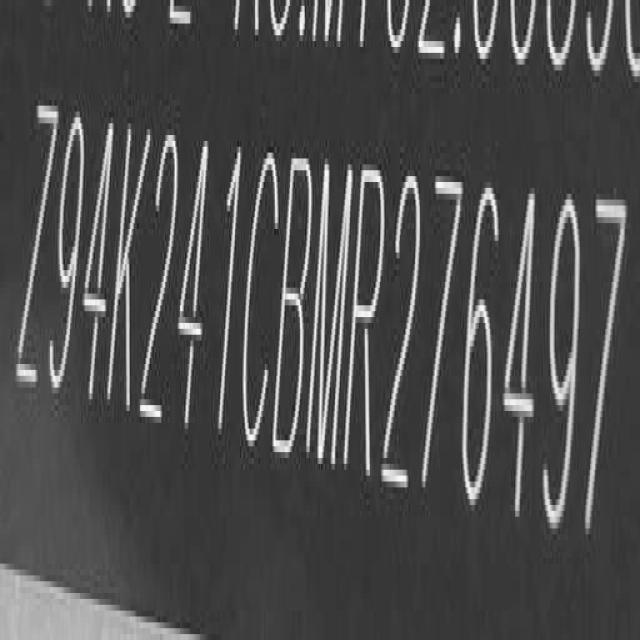1: (212, 142, 243, 451)
2: (386, 166, 424, 496), (140, 128, 178, 432)
4: (502, 182, 540, 528), (79, 112, 118, 414), (176, 134, 213, 440)
6: (462, 176, 499, 516)
7: (588, 192, 628, 550), (426, 162, 463, 506)
9: (545, 195, 582, 543), (47, 106, 84, 406)
B: (278, 146, 318, 462)
C: (242, 148, 280, 457)
K: (112, 122, 148, 424)
M: (307, 154, 351, 472)
R: (345, 160, 387, 484)
Z: (16, 94, 55, 402)
